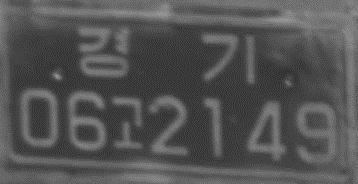0: (20, 88, 59, 150)
1: (196, 96, 236, 157)
2: (148, 96, 189, 156)
4: (246, 101, 286, 161)
6: (67, 91, 107, 152)
9: (295, 101, 338, 166)
경기_D: (77, 25, 256, 85)
고: (111, 95, 143, 149)
